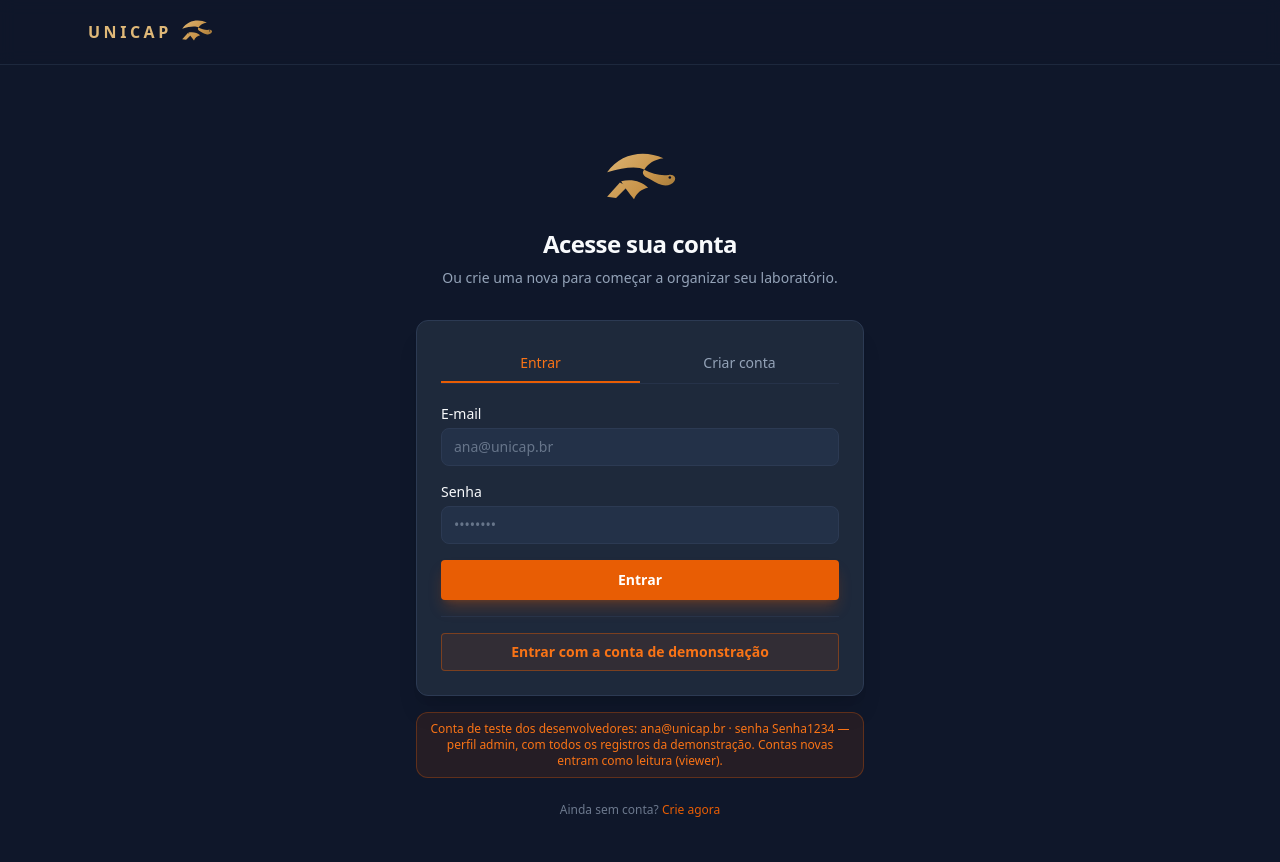
it: Acesso com a conta de demonstração › o botão de demonstração entra direto com a conta admin
Click the button "Entrar com a conta de demonstração" at (640, 652), box [441, 632, 839, 670]
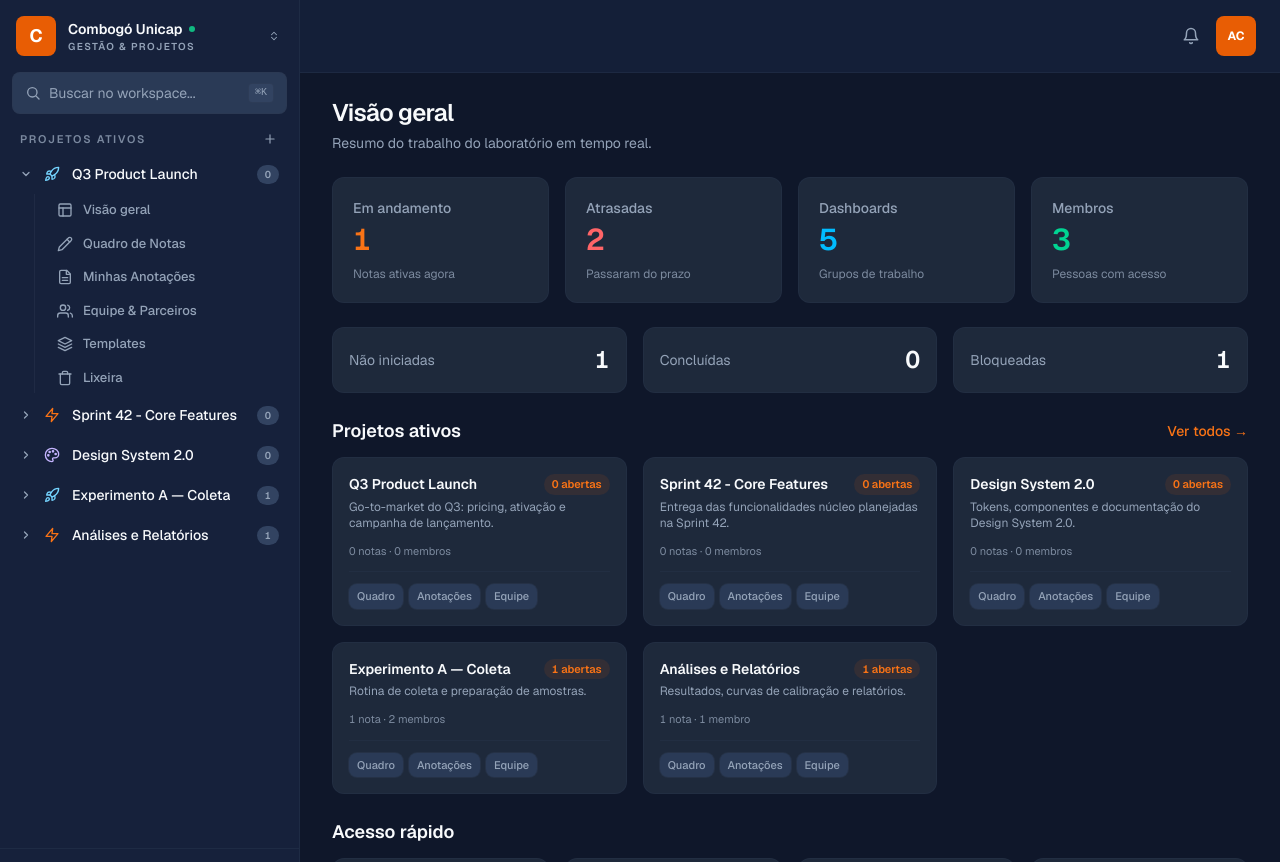
Now the heading "Visão geral" is shown, box [332, 97, 454, 128]
